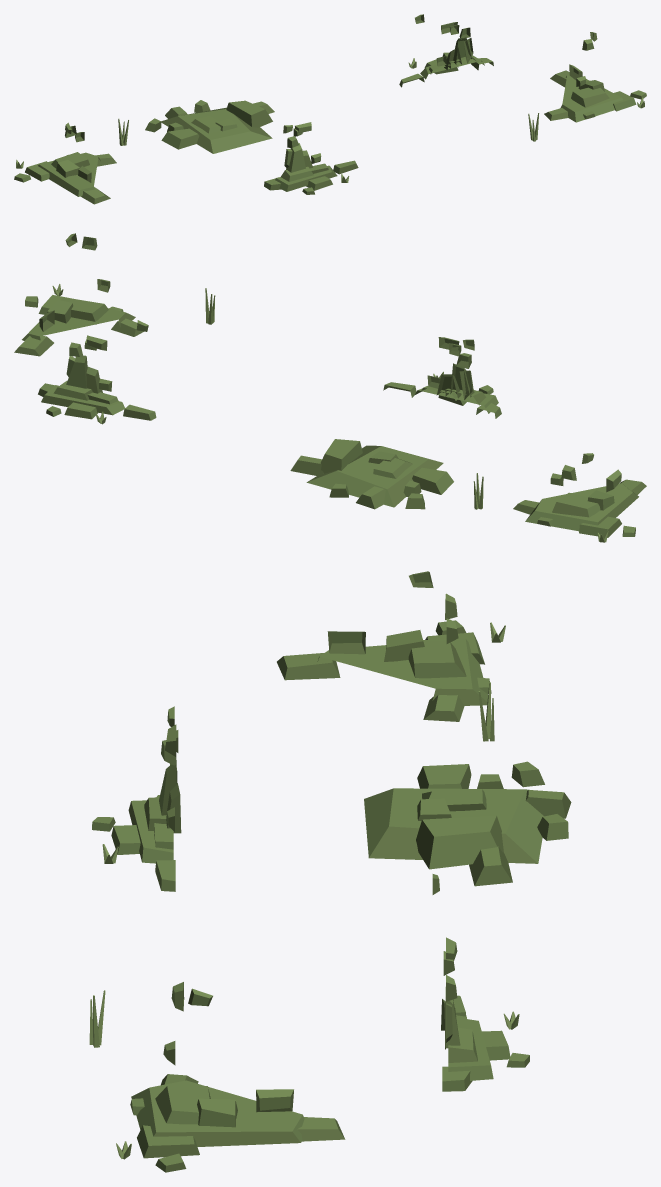
File: SA_Bld_Motel_SideBuilding_Growth_01.gltf
The picture shows the model from 3 angles, top to bottom: view 1: azimuth 30°, elevation 25°; view 2: azimuth 150°, elevation 25°; view 3: azimuth 270°, elevation 25°; orthographic projection. The views are drawn at different scales.
Visible parts, largest first — view 1: SA_Bld_Motel_SideBuilding_Growth_01; view 2: SA_Bld_Motel_SideBuilding_Growth_01; view 3: SA_Bld_Motel_SideBuilding_Growth_01.
Boxes of the visible parts, x1=… form: SA_Bld_Motel_SideBuilding_Growth_01: x1=14, y1=14, x2=646, y2=204; SA_Bld_Motel_SideBuilding_Growth_01: x1=14, y1=233, x2=646, y2=542; SA_Bld_Motel_SideBuilding_Growth_01: x1=89, y1=571, x2=571, y2=1172.
Size of the model in its own units: 42.09 by 5.16 by 15.67.
1 material, 1 textured.
